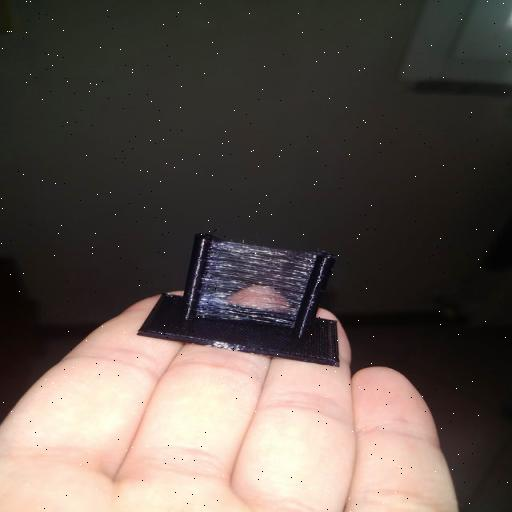stringing: (200, 239, 320, 327)
